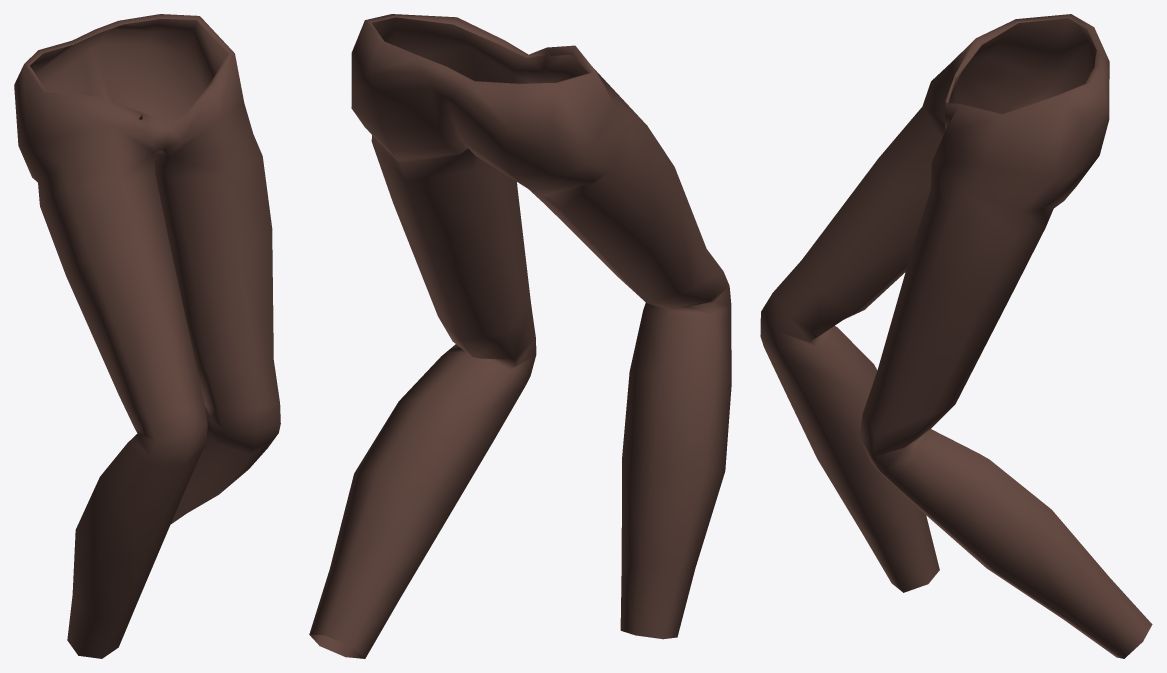
File: Pants.fbx
3 views of the same model, side by side, from view 1: azimuth 30°, elevation 25°; view 2: azimuth 150°, elevation 25°; view 3: azimuth 270°, elevation 25° (orthographic). The views are drawn at different scales.
Visible parts, largest first — view 1: Pants; view 2: Pants; view 3: Pants.
Part boxes in pixels (x1=…): Pants: x1=14, y1=14, x2=280, y2=658; Pants: x1=309, y1=14, x2=731, y2=658; Pants: x1=760, y1=14, x2=1152, y2=658.
Size of the model in its own units: 38.36 by 85.52 by 52.19.
